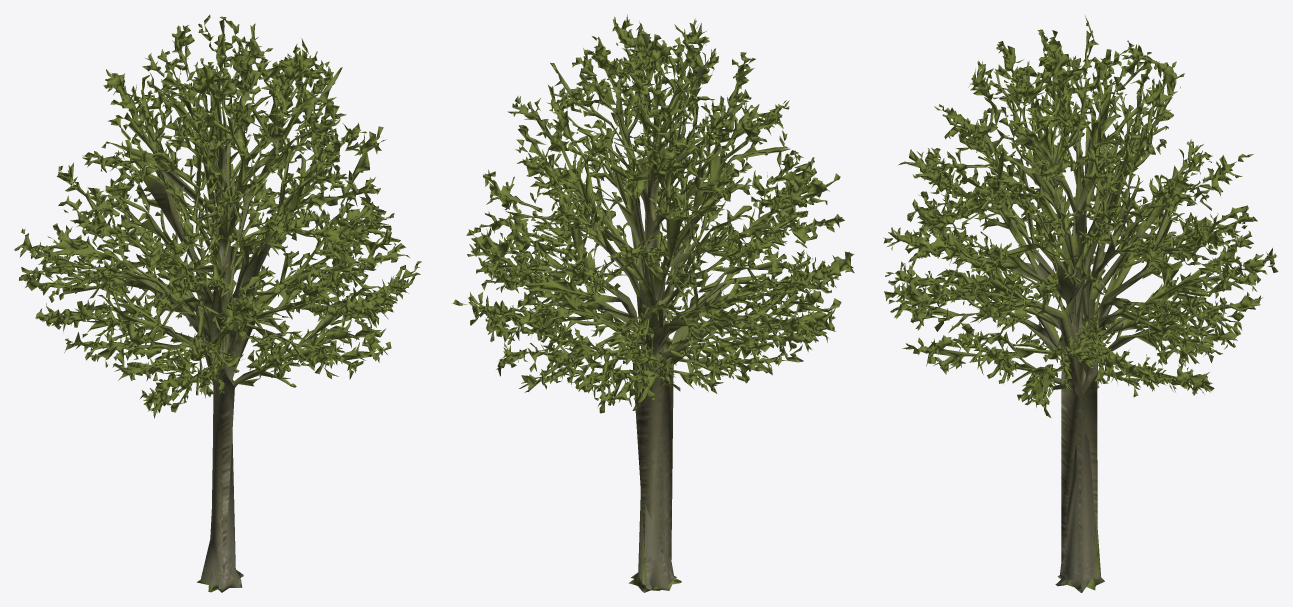
The model's file is lib_tp_keyaki.near.glb.
3 renders of one model, left to right at view 1: azimuth 30°, elevation 25°; view 2: azimuth 150°, elevation 25°; view 3: azimuth 270°, elevation 25°, orthographic.
Bounding box in the file's own units: 1.21 × 1.81 × 1.17.
Materials: 1 (1 with a texture image).
